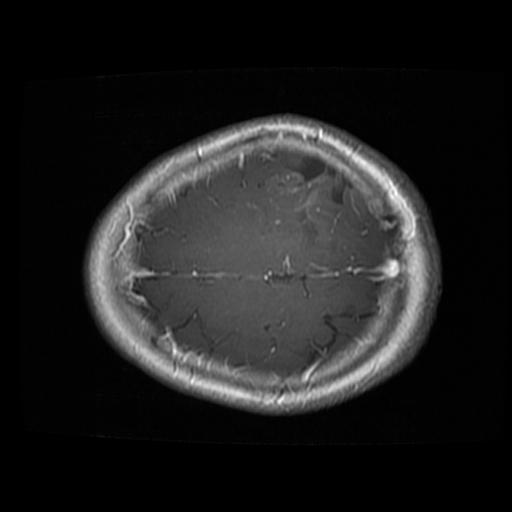glioma: (260, 155, 379, 245)
